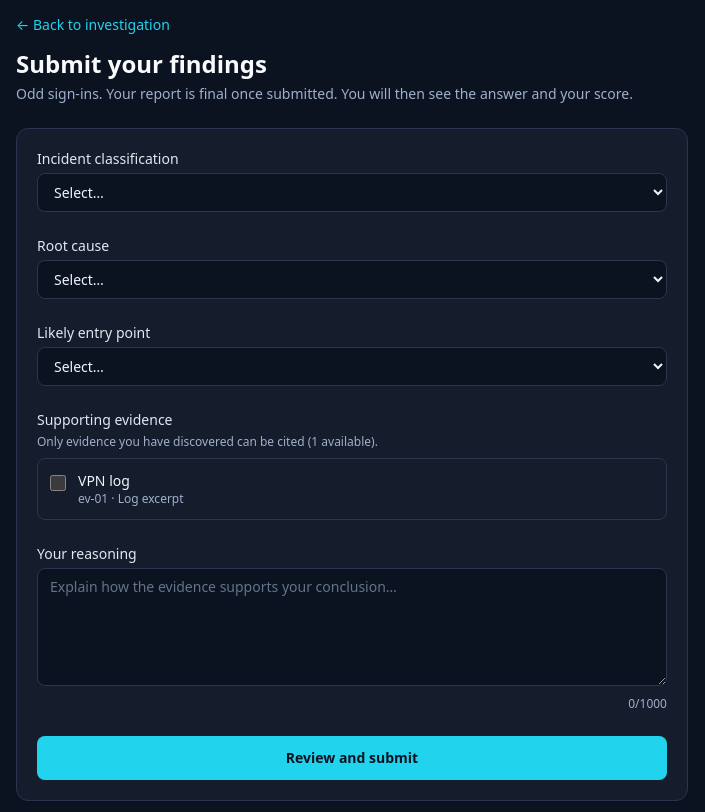
it: SubmitFindings page › shows validation errors and does not open the dialog for an empty form
What coordinates should you click on to do the following:
click the button "Review and submit"
I would click on:
 (352, 758)
Its box is [37, 736, 667, 780].
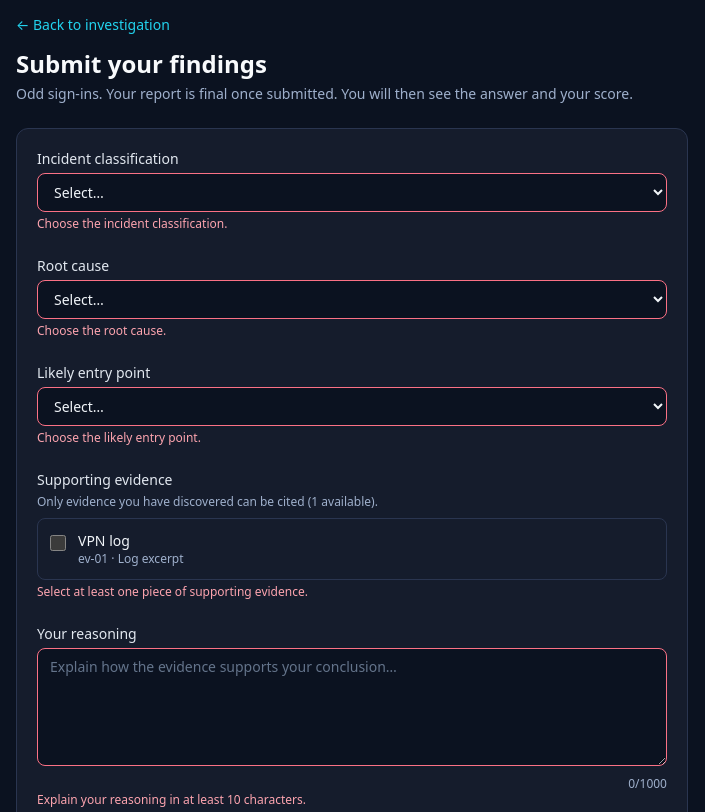
Check: the text "Choose the incident classification." is shown, box [37, 215, 227, 232]
